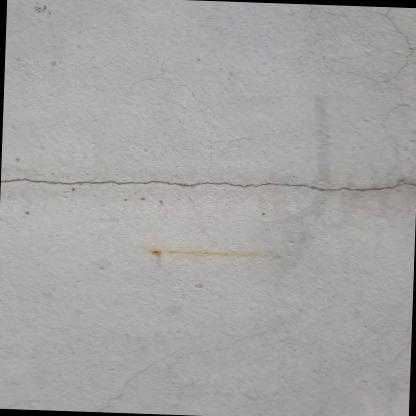crack: (2, 176, 414, 191)
